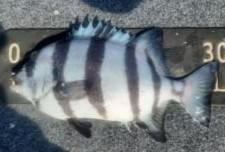fish: (12, 15, 215, 141)
